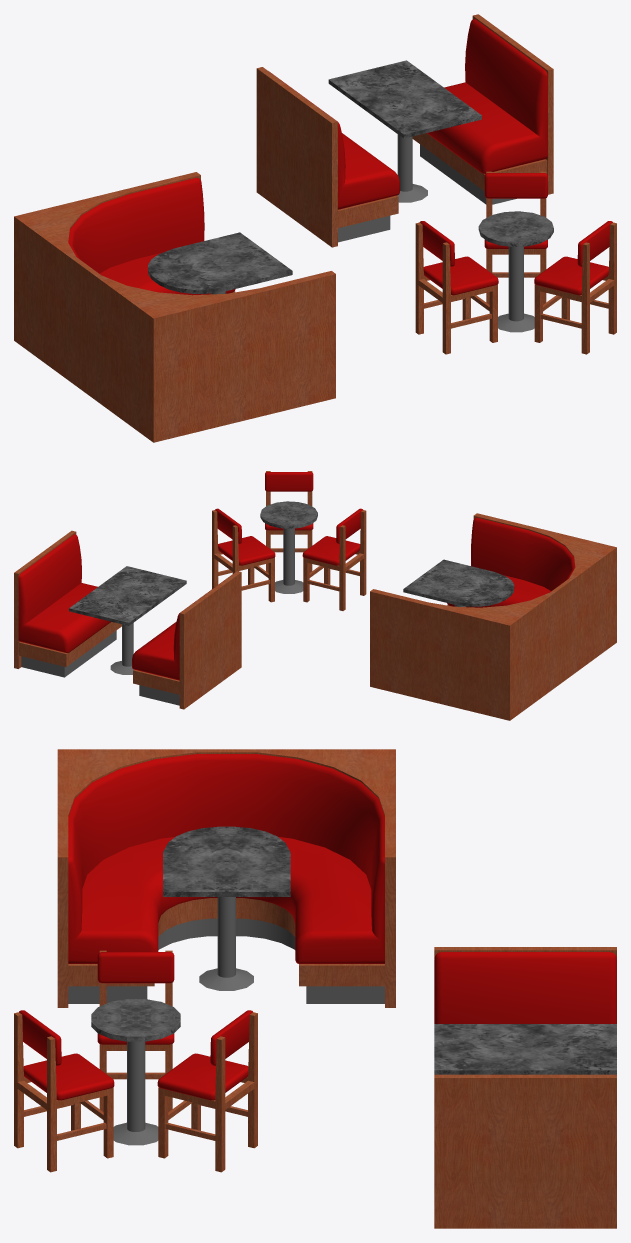
Rendered from bar.glb.
3 views of the same model, one above another, from view 1: azimuth 30°, elevation 25°; view 2: azimuth 150°, elevation 25°; view 3: azimuth 270°, elevation 25° (orthographic). The views are drawn at different scales.
Parts seen in each view (by area): view 1: Material2 (×27); view 2: Material2 (×28); view 3: Material2 (×31).
Boxes of the visible parts, <box> form: Material2 (×27): <box>14,14,616,442</box>; Material2 (×28): <box>14,472,616,720</box>; Material2 (×31): <box>14,749,616,1228</box>.
Size of the model in its own units: 168 by 35.83 by 130.
4 materials, 2 textured.
